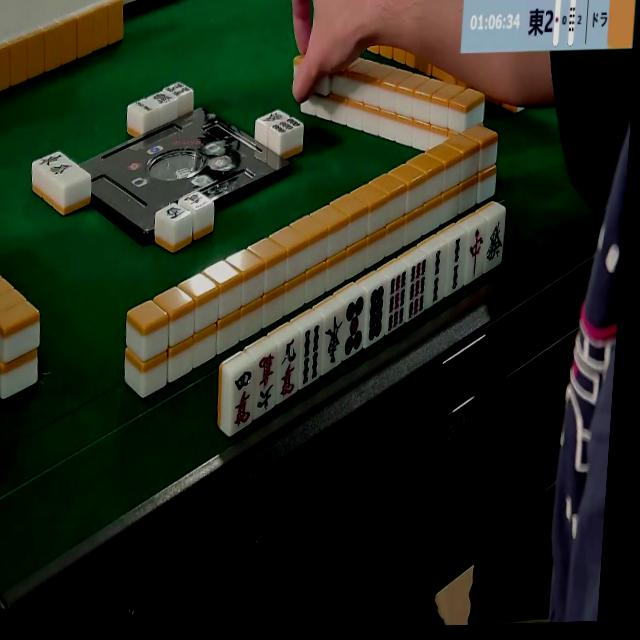east: (322, 311, 347, 371)
fa: (486, 217, 507, 270)
m4: (228, 369, 257, 433)
m6: (252, 350, 280, 415)
m9: (277, 335, 304, 400)
s2: (444, 235, 467, 296), (427, 246, 448, 305)
s4: (300, 322, 328, 387)
s9: (405, 259, 431, 322), (385, 270, 411, 333)
t7: (343, 295, 368, 358)
t8: (362, 286, 385, 348)
zhong: (467, 224, 487, 284)
